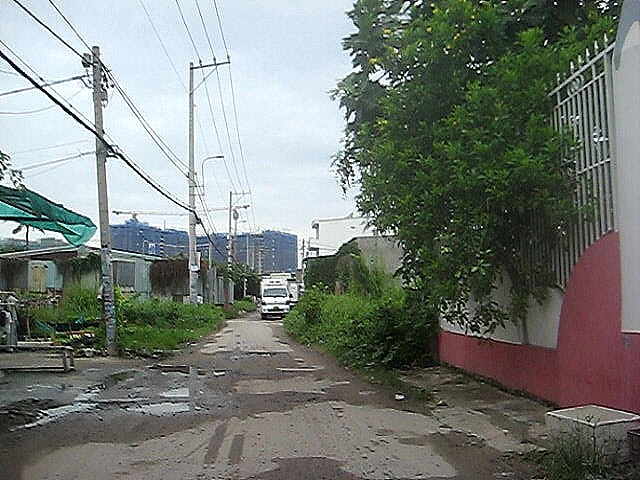hole: (117, 398, 212, 416), (146, 360, 233, 378), (156, 383, 224, 398), (235, 349, 287, 357)
